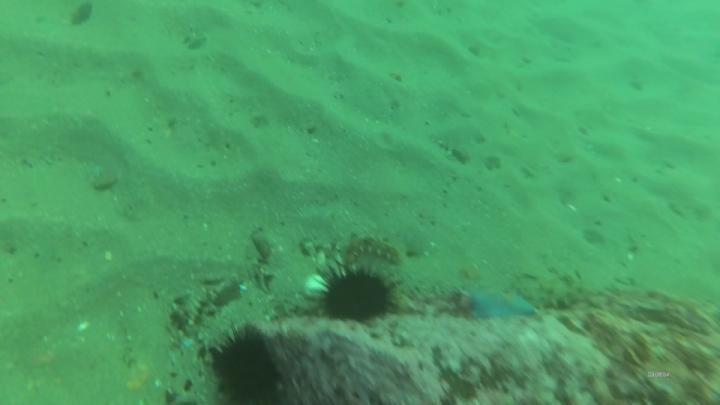echinus: (208, 327, 293, 405), (319, 269, 393, 329)
holothurian: (523, 276, 589, 309), (344, 238, 400, 265)
starfish: (460, 281, 542, 327)
